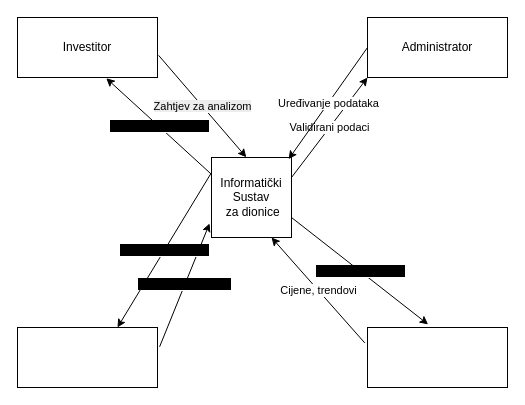
The diagram is 525 pixels wide and 405 high, and some of its shapes have lost their labels. Each missing label, with the centre of its shape:
Analitičar: point 87,357
Vanjski izvori (API, burze): point 437,357
